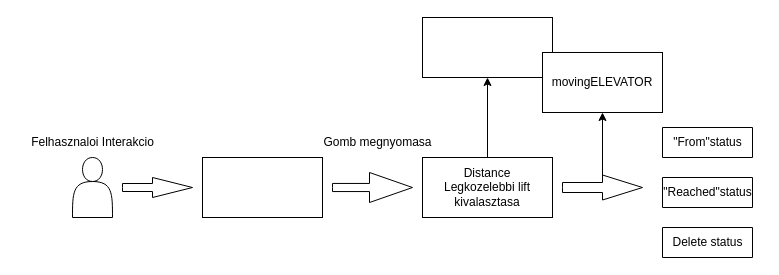
This 779x275 diagram has some shape labels left out. Here are the shapes that lost their labels. From the top down, the centre of each, then its label:
At pixel 487 47: "chooseeELEVATOR".
At pixel 262 187: "CallFloor es Destination megadas".
